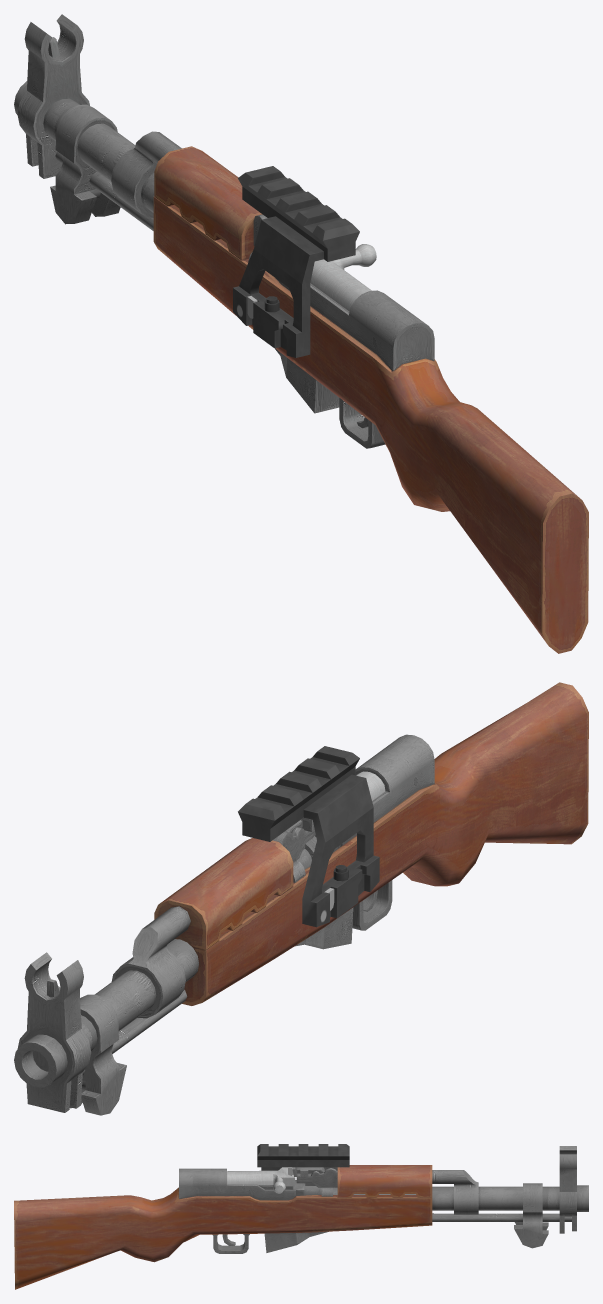
The model's file is IG_Gun_SKS.fbx.
The picture shows the model from 3 angles, top to bottom: view 1: azimuth 30°, elevation 25°; view 2: azimuth 150°, elevation 25°; view 3: azimuth 270°, elevation 25°; orthographic projection. The views are drawn at different scales.
Visible parts, largest first — view 1: WPN_SKS, ShowIf_Scope; view 2: WPN_SKS, ShowIf_Scope; view 3: WPN_SKS, ShowIf_Scope.
Part boxes in pixels (left/top/right/bottom): WPN_SKS: left=14, top=14, right=588, bottom=653; ShowIf_Scope: left=233, top=166, right=359, bottom=357; WPN_SKS: left=14, top=682, right=588, bottom=1115; ShowIf_Scope: left=238, top=746, right=379, bottom=927; WPN_SKS: left=14, top=1146, right=588, bottom=1289; ShowIf_Scope: left=257, top=1144, right=349, bottom=1170.
Bounding box in the file's own units: 0.1345 × 0.3567 × 1.32.
